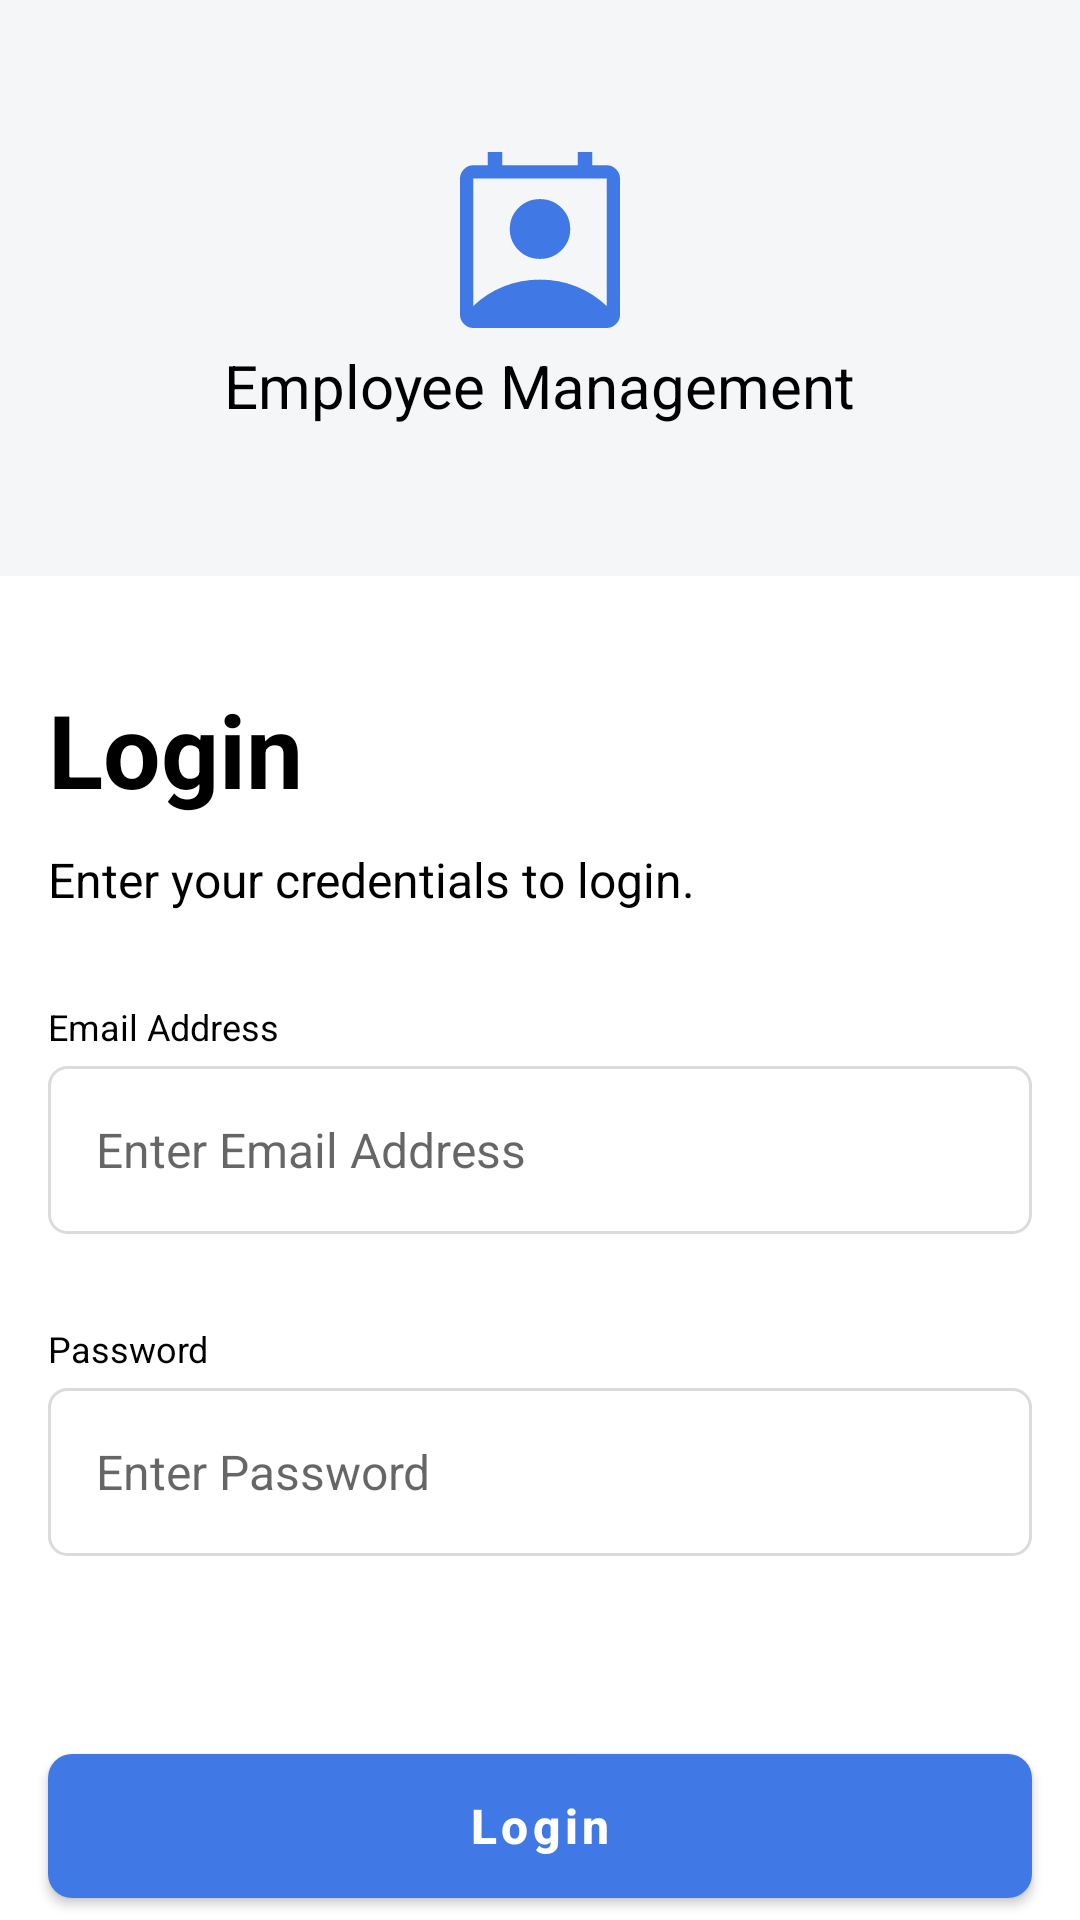

Icons on this 1080w x 1920h Android screen, each with its box as {"x1": x1, "y1": y1, "x2": x2, "y2": y2}:
contact: {"x1": 460, "y1": 152, "x2": 620, "y2": 328}
